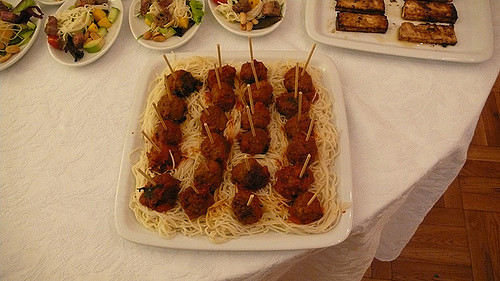meatballs: (276, 167, 298, 186), (211, 67, 223, 100)
plain spaghetti: (217, 207, 232, 235)
